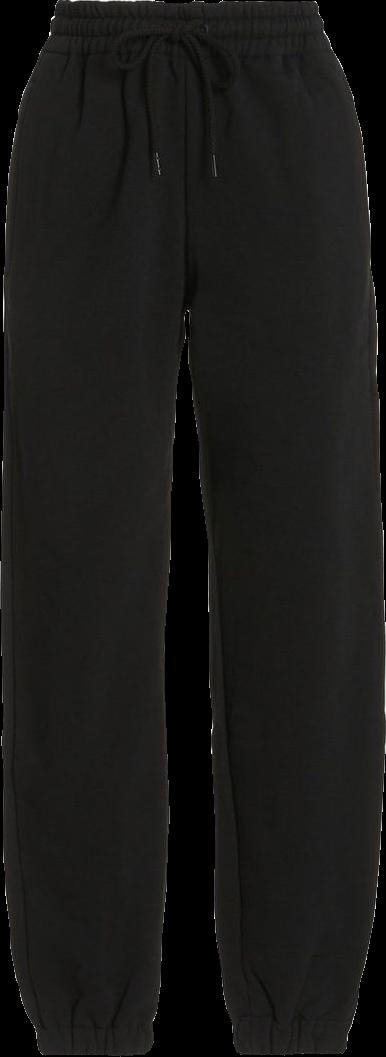Hemline: (234, 1041, 351, 1056), (37, 1041, 154, 1056)
Pantleg: (185, 0, 384, 1055), (1, 0, 188, 1056)
Waistline: (39, 41, 336, 64), (54, 0, 318, 17), (31, 1012, 156, 1034), (229, 1009, 357, 1029)
